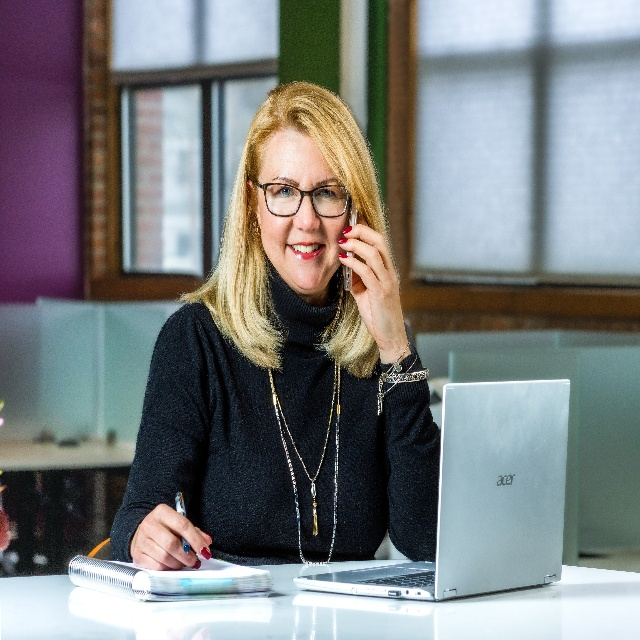Gafas: (256, 172, 347, 217)
Sin_guantes: (337, 225, 407, 348), (131, 505, 213, 571)
